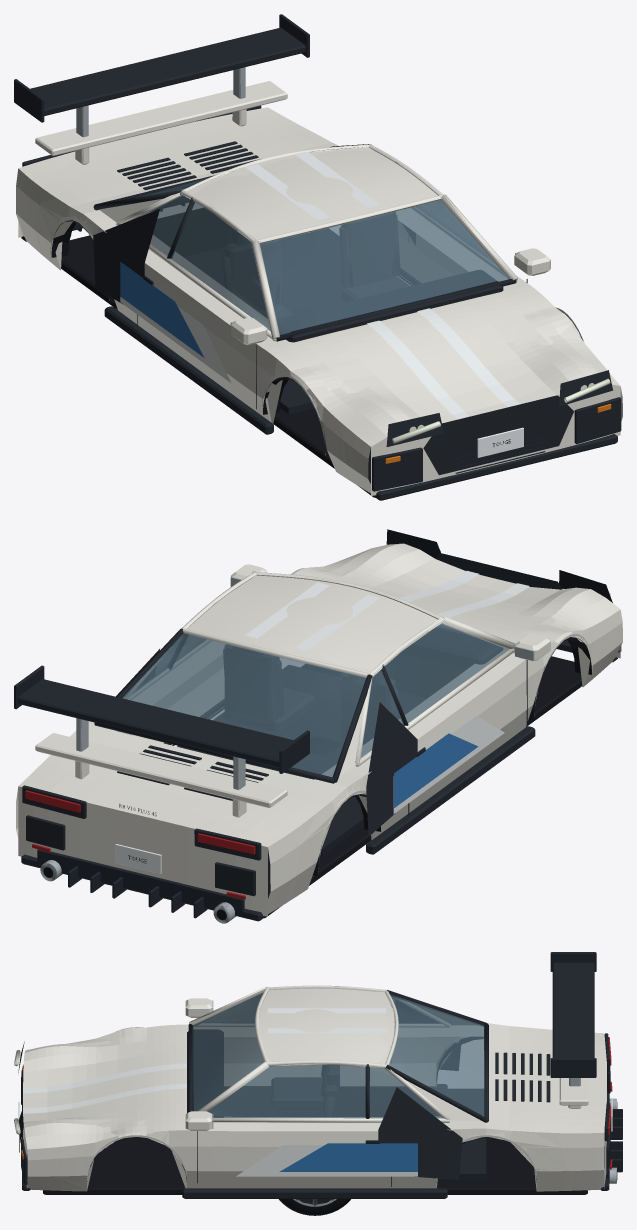
The picture shows the model from 3 angles, top to bottom: view 1: azimuth 30°, elevation 25°; view 2: azimuth 150°, elevation 25°; view 3: azimuth 270°, elevation 25°; orthographic projection. The views are drawn at different scales.
Parts seen in each view (by area): view 1: LOD0_body, LOD0_cabin, LOD0_glass, LOD1_glass, LOD1_body, LOD0_hood, LOD1_hood, LOD1_spoiler_gt, LOD1_cabin, LOD0_spoiler_gt, LOD0_vinyl_apex, LOD1_spoiler_stock (+3 smaller); view 2: LOD0_body, LOD0_cabin, LOD1_body, LOD0_glass, LOD1_glass, LOD1_spoiler_gt, LOD0_hood, LOD1_hood, LOD1_cabin, LOD0_spoiler_gt, LOD0_vinyl_apex, LOD1_spoiler_stock (+3 smaller); view 3: LOD0_body, LOD1_body, LOD0_cabin, LOD0_glass, LOD1_glass, LOD0_hood, LOD1_hood, LOD1_cabin, LOD0_vinyl_apex, LOD1_spoiler_gt, LOD0_vinyl_twin, LOD0_spoiler_gt (+4 smaller).
Part boxes in pixels (x1,y1,x2,y2): LOD0_body: (16,105,622,500); LOD0_cabin: (93,144,517,414); LOD0_glass: (134,177,508,334); LOD1_glass: (137,179,508,334); LOD1_body: (18,106,622,500); LOD0_hood: (280,287,597,436); LOD1_hood: (330,311,578,423); LOD1_spoiler_gt: (15,27,309,136); LOD1_cabin: (95,144,517,413); LOD0_spoiler_gt: (14,14,309,137); LOD0_vinyl_apex: (120,262,231,383); LOD1_spoiler_stock: (35,81,287,164); LOD0_body: (18,529,622,923); LOD0_cabin: (94,570,515,855); LOD1_body: (16,548,621,923); LOD0_glass: (122,623,507,776); LOD1_glass: (123,624,508,776); LOD1_spoiler_gt: (16,665,293,789); LOD0_hood: (313,543,605,650); LOD1_hood: (341,547,562,629); LOD1_cabin: (95,571,493,854); LOD0_spoiler_gt: (14,666,309,789); LOD0_vinyl_apex: (393,715,504,813); LOD1_spoiler_stock: (35,733,287,817); LOD0_body: (14,998,622,1198); LOD1_body: (15,998,617,1198); LOD0_cabin: (187,985,488,1179); LOD0_glass: (193,992,484,1118); LOD1_glass: (192,993,484,1118); LOD0_hood: (23,1031,187,1137); LOD1_hood: (23,1042,169,1124); LOD1_cabin: (188,986,486,1179); LOD0_vinyl_apex: (236,1143,417,1176); LOD1_spoiler_gt: (550,953,595,1085); LOD0_vinyl_twin: (26,1008,386,1113); LOD0_spoiler_gt: (550,952,596,1086).
Bounding box in the file's own units: 2.2 × 1.72 × 4.62.
